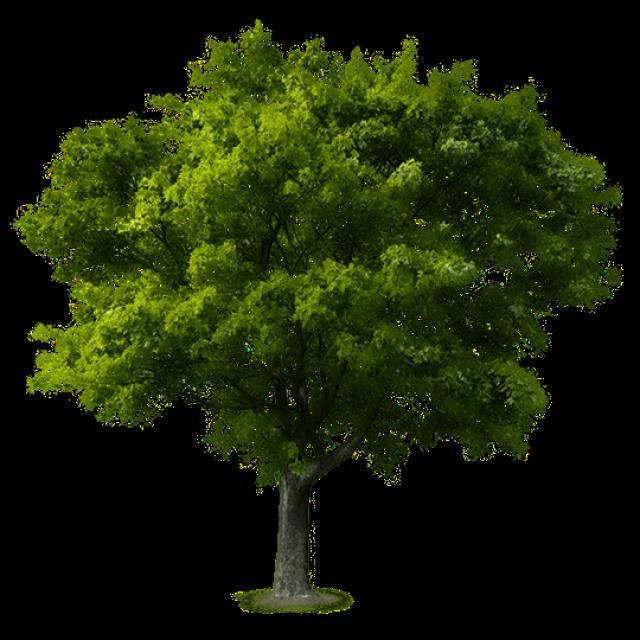Tree: (15, 13, 626, 609)
